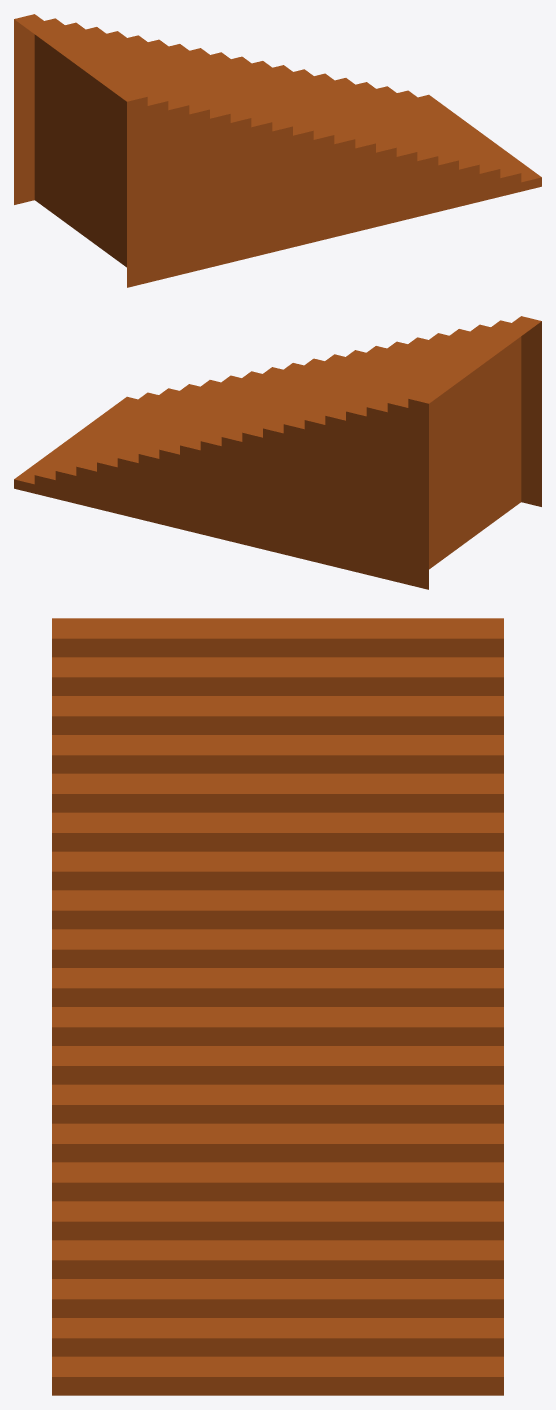
Rendered from fstStair1.obj.
3 views of the same model, one above another, from view 1: azimuth 30°, elevation 25°; view 2: azimuth 150°, elevation 25°; view 3: azimuth 270°, elevation 25° (orthographic). The views are drawn at different scales.
Visible parts, largest first — view 1: Box011; view 2: Box011; view 3: Box011.
Part boxes in pixels (<box>): Box011: <box>14,14,541,287</box>; Box011: <box>14,316,541,589</box>; Box011: <box>52,618,503,1395</box>.
Bounding box in the file's own units: 276 × 118 × 130.
